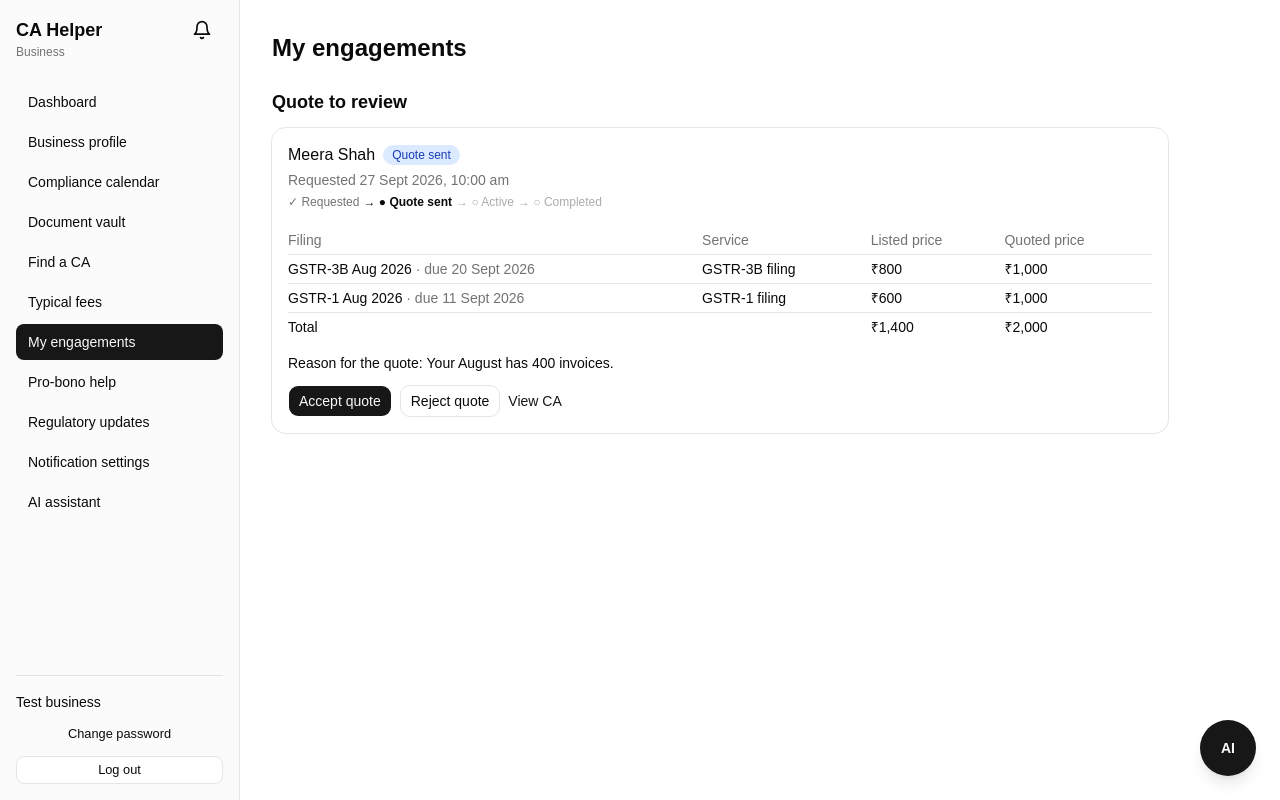
Test: business: My engagements page › shows an action's error
The width and height of the screenshot is (1280, 800).
Click the button "Reject quote".
click(450, 401)  # box [400,385,500,417]
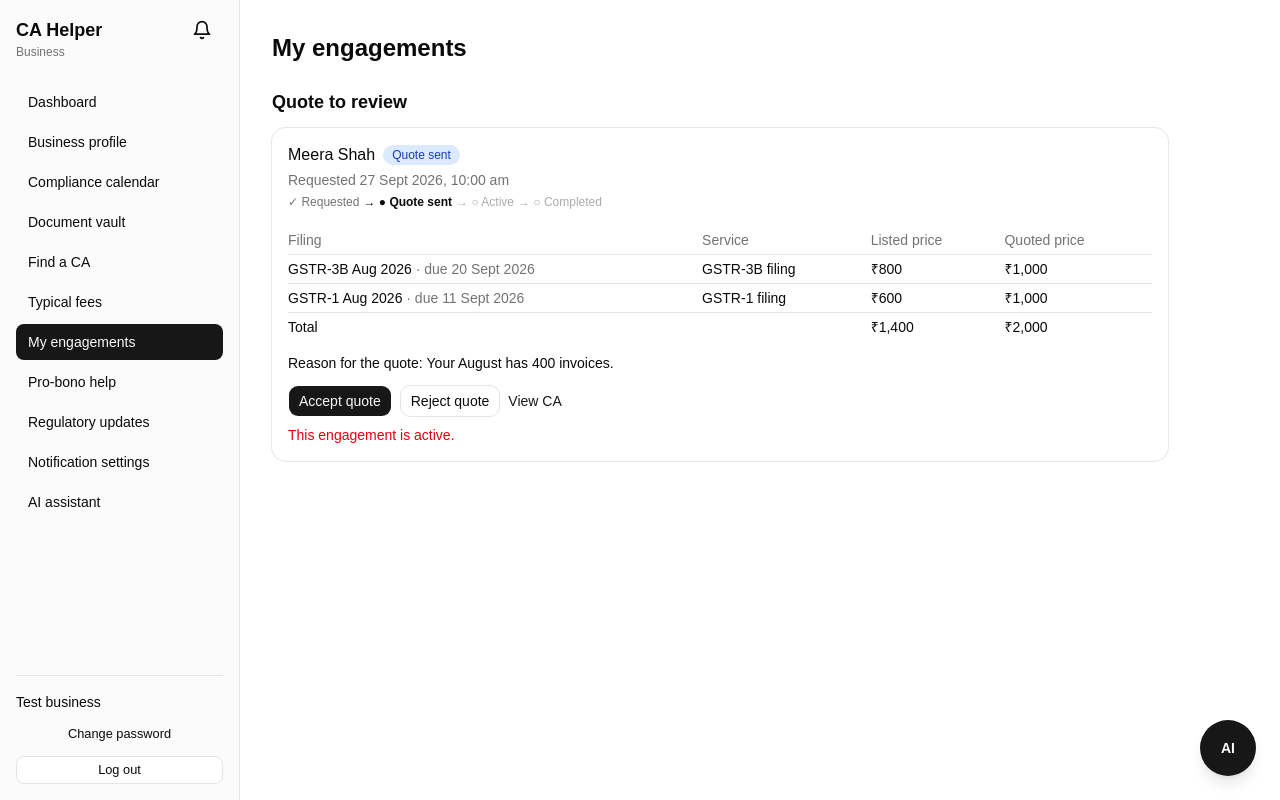
Check: the message reads "This engagement is active.", box [288,427,454,443]
